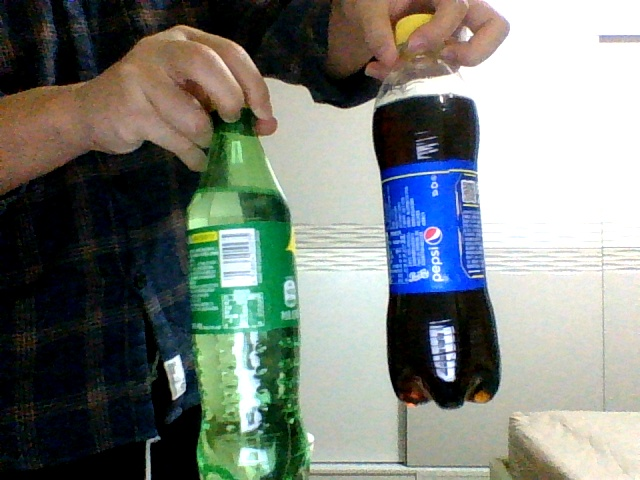Cola: (373, 11, 500, 407)
Sprite: (184, 106, 308, 479)
